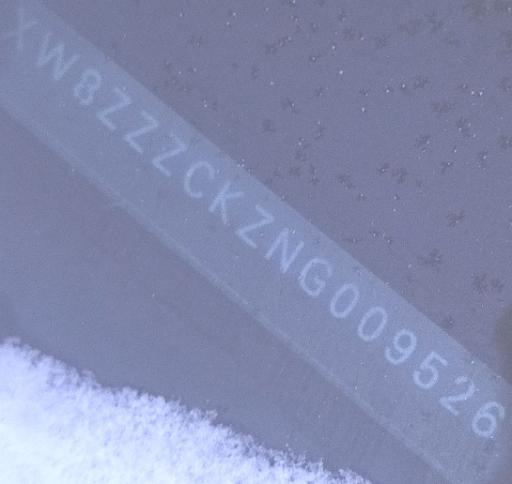letter: (32, 32, 82, 80), (146, 131, 192, 177), (1, 4, 45, 51), (262, 226, 308, 270), (206, 178, 248, 225), (234, 203, 276, 247), (441, 371, 479, 417), (97, 85, 135, 130), (124, 108, 162, 153), (412, 345, 448, 390), (180, 157, 218, 199), (468, 398, 510, 436), (380, 329, 424, 364), (300, 256, 336, 296), (328, 278, 360, 319), (356, 304, 390, 340), (74, 67, 104, 107)
